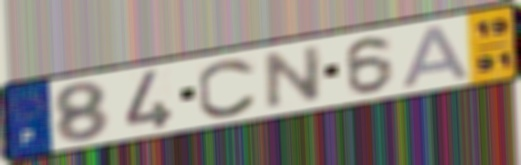4: (122, 67, 176, 132)
6: (343, 34, 398, 95)
8: (52, 79, 114, 145)
A: (400, 22, 476, 91)
C: (195, 56, 260, 120)
N: (263, 42, 326, 112)
